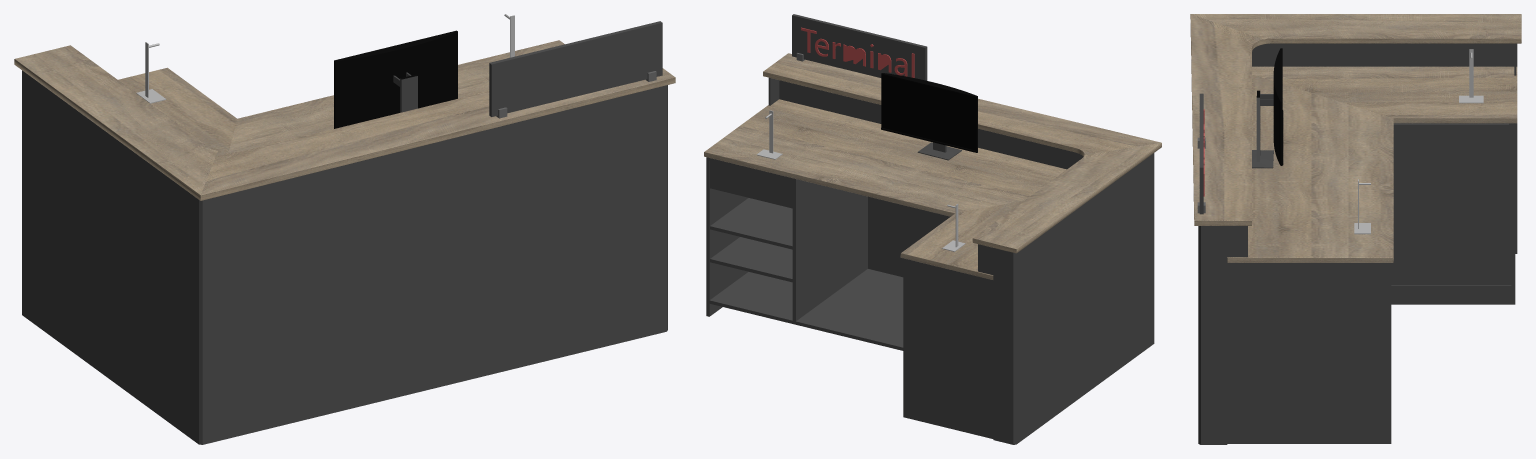
Rendered from BaseTerminal.fbx.
The picture shows the model from 3 angles, left to right: view 1: azimuth 30°, elevation 25°; view 2: azimuth 150°, elevation 25°; view 3: azimuth 270°, elevation 25°; orthographic projection. The views are drawn at different scales.
Visible parts, largest first — view 1: BaseTerminal; view 2: BaseTerminal; view 3: BaseTerminal, Stand_2.
Part boxes in pixels (box(x1,y1,x2,y2)): BaseTerminal: box(14, 21, 675, 444); BaseTerminal: box(704, 14, 1161, 444); BaseTerminal: box(1190, 14, 1521, 444); Stand_2: box(1459, 49, 1483, 103).
Size of the model in its own units: 237 by 147 by 160.
